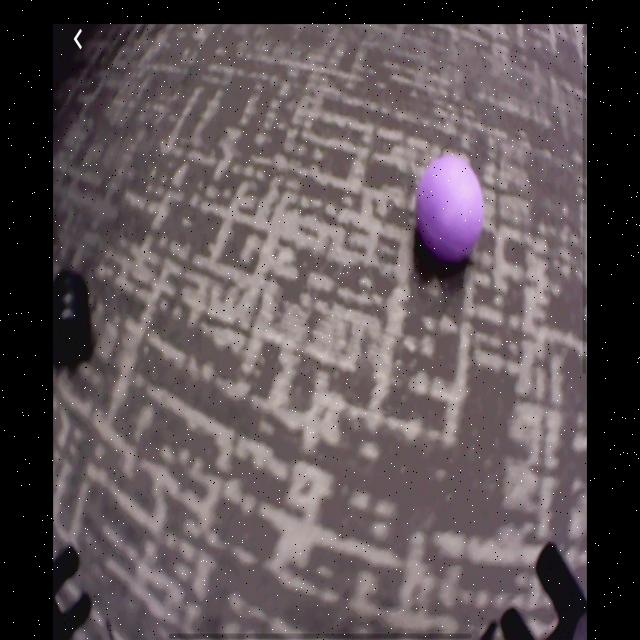ball: (417, 154, 487, 265)
